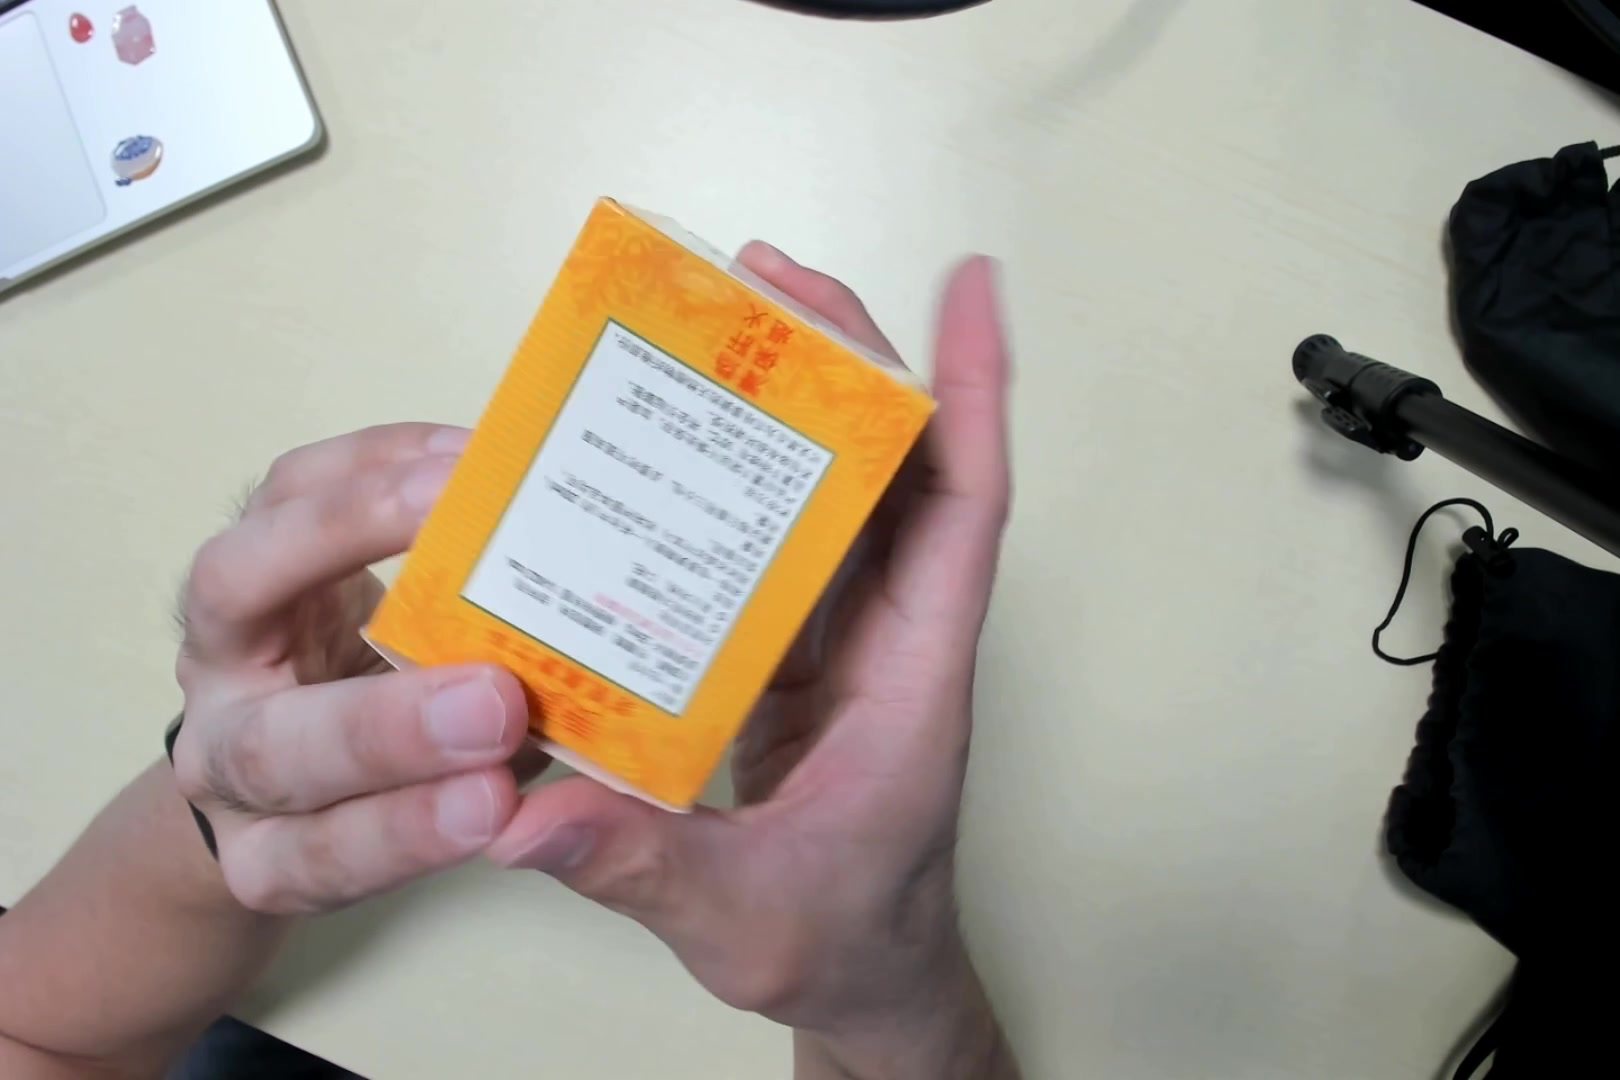OtherHotBeverages(Powder)_0-99g_Halal_NonHealthy: (372, 210, 939, 806)
